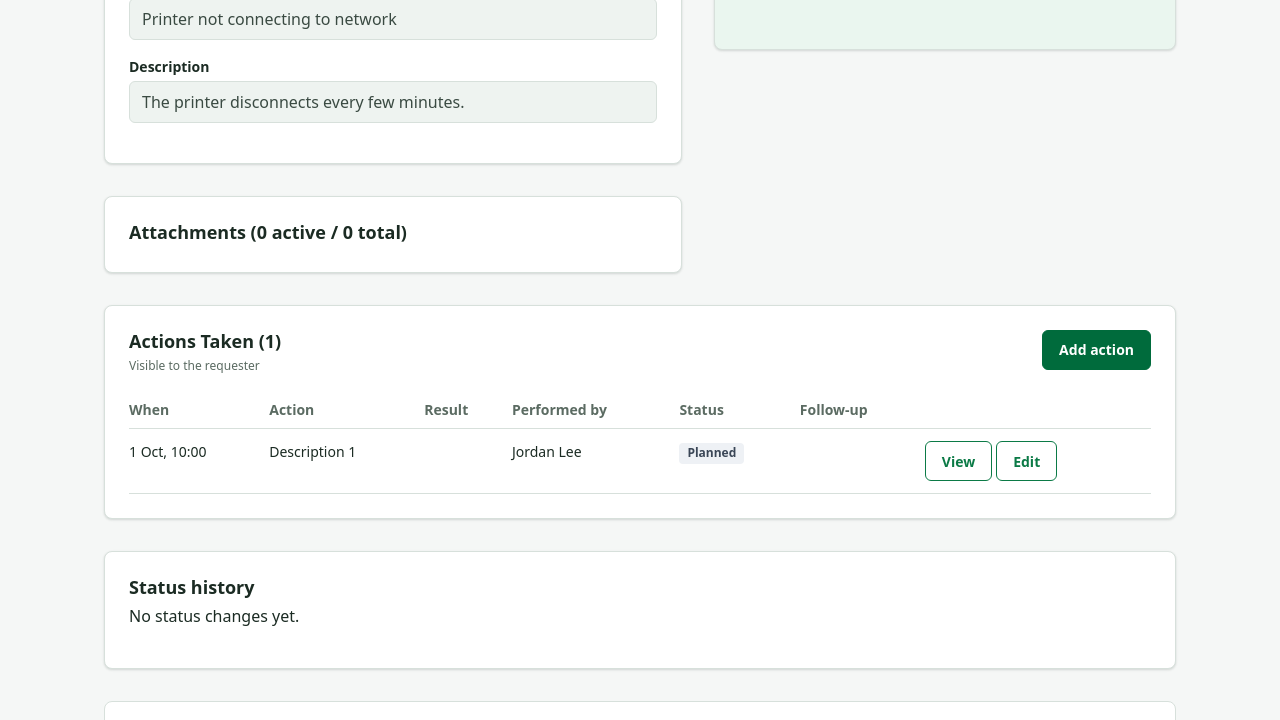
C-11 Create form › only offers one open form: Edit is disabled while the create form is open
(page scrolled)
Click the button "Add action" at (1097, 350), box [1042,330,1151,370]
(page scrolled)
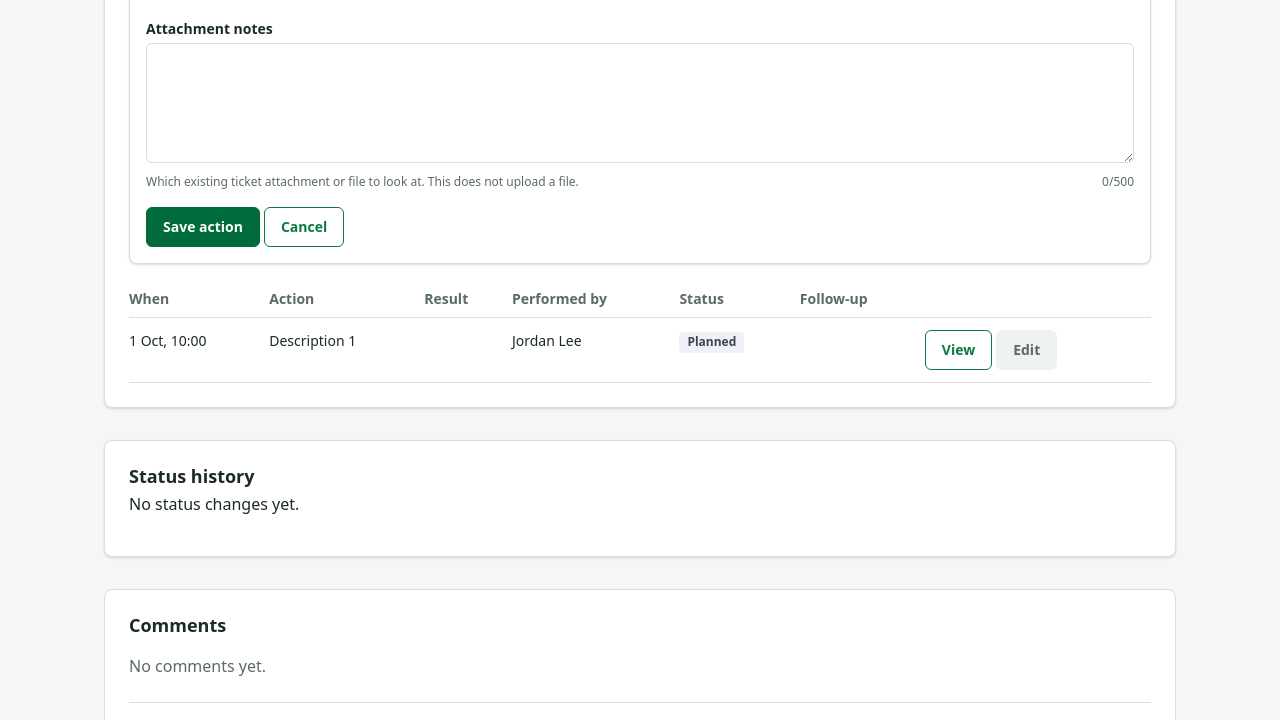
Now the button with aria-label "Edit action" is disabled, box [996,330,1057,370]
